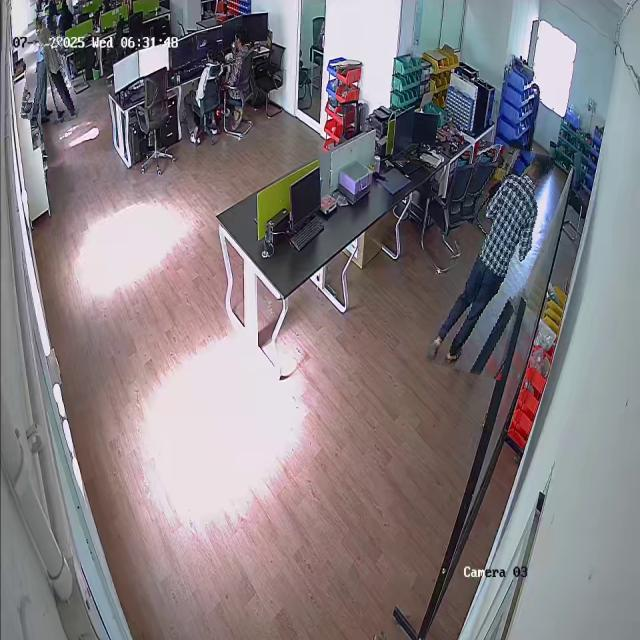person: (439, 142, 543, 377), (40, 14, 75, 122), (23, 13, 52, 121), (222, 25, 250, 91)
